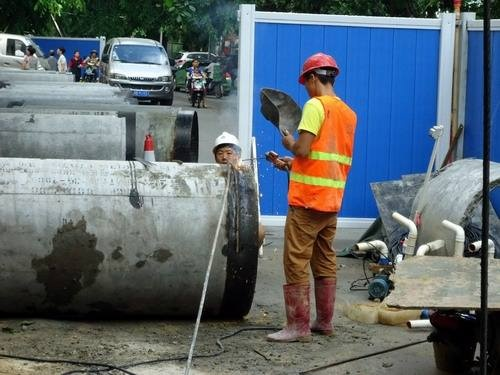red: (299, 51, 340, 99)
white: (211, 133, 240, 165)
